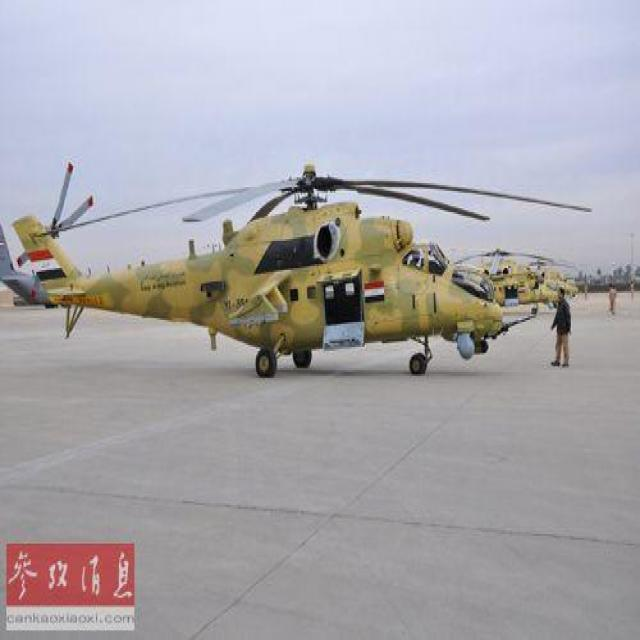MIL_HELO: (1, 161, 611, 392)
